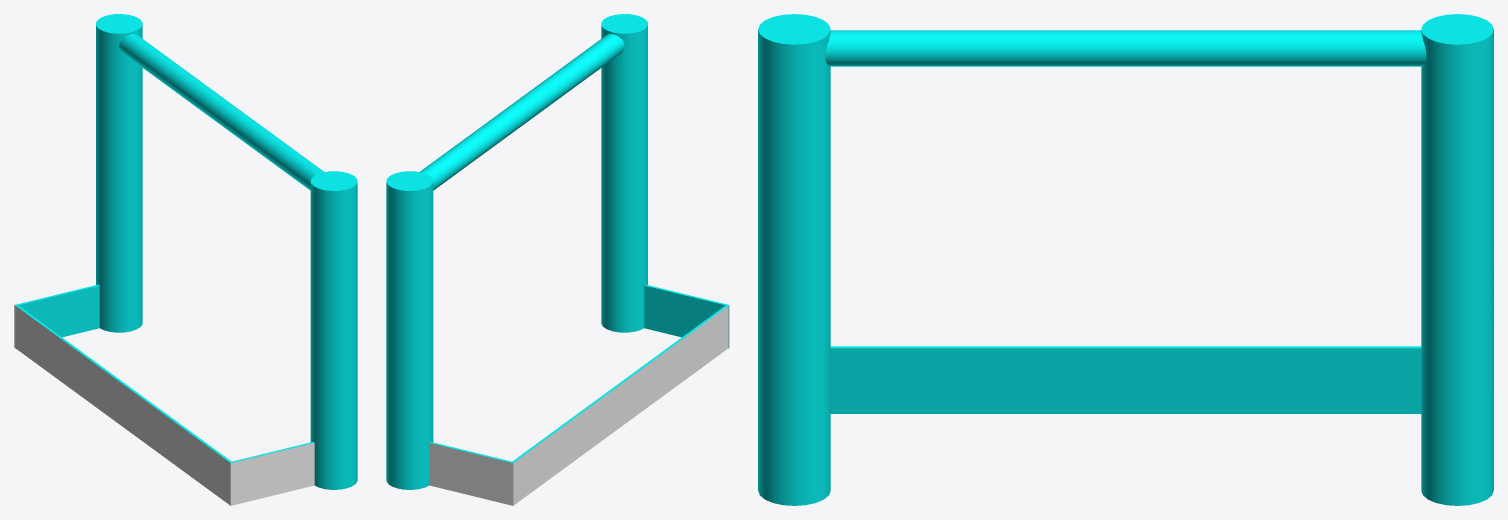
File: TallBlueGoal.obj
The picture shows the model from 3 angles, left to right: view 1: azimuth 30°, elevation 25°; view 2: azimuth 150°, elevation 25°; view 3: azimuth 270°, elevation 25°; orthographic projection. The views are drawn at different scales.
Visible parts, largest first — view 1: pCylinder6 group8 group7, group8 group7 pCylinder8, group8 group7 pCube17, group8 group7 pCylinder7, group8 group7 pCube16, group8 group7 pCube18; view 2: group8 group7 pCylinder8, pCylinder6 group8 group7, group8 group7 pCube17, group8 group7 pCylinder7, group8 group7 pCube18, group8 group7 pCube16; view 3: group8 group7 pCube17, pCylinder6 group8 group7, group8 group7 pCylinder8, group8 group7 pCylinder7.
Part boxes in pixels (x1=…): pCylinder6 group8 group7: x1=310, y1=171, x2=357, y2=489; group8 group7 pCylinder8: x1=96, y1=14, x2=142, y2=332; group8 group7 pCube17: x1=15, y1=305, x2=231, y2=504; group8 group7 pCylinder7: x1=119, y1=34, x2=324, y2=190; group8 group7 pCube16: x1=229, y1=442, x2=314, y2=505; group8 group7 pCube18: x1=14, y1=284, x2=99, y2=348; group8 group7 pCylinder8: x1=386, y1=171, x2=433, y2=489; pCylinder6 group8 group7: x1=601, y1=14, x2=647, y2=332; group8 group7 pCube17: x1=511, y1=305, x2=727, y2=504; group8 group7 pCylinder7: x1=419, y1=34, x2=624, y2=190; group8 group7 pCube18: x1=429, y1=442, x2=514, y2=505; group8 group7 pCube16: x1=644, y1=284, x2=729, y2=348; group8 group7 pCube17: x1=830, y1=346, x2=1421, y2=413; pCylinder6 group8 group7: x1=758, y1=14, x2=830, y2=505; group8 group7 pCylinder8: x1=1421, y1=14, x2=1493, y2=505; group8 group7 pCylinder7: x1=825, y1=30, x2=1426, y2=66.
Size of the model in its own units: 0.3054 by 0.7 by 1.01.
